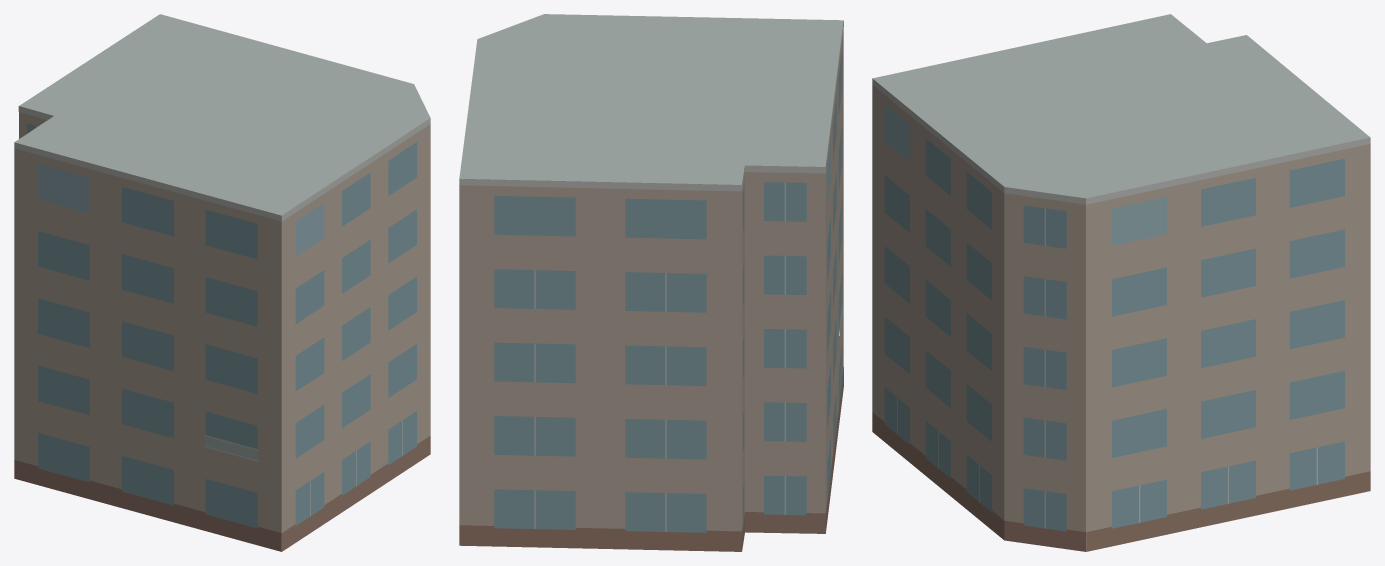
Rendered from survey-upis-32837187.glb.
3 views of the same model, side by side, from view 1: azimuth 30°, elevation 25°; view 2: azimuth 150°, elevation 25°; view 3: azimuth 270°, elevation 25° (orthographic). The views are drawn at different scales.
Visible parts, largest first — view 1: survey-upis-32837187.tmp; view 2: survey-upis-32837187.tmp; view 3: survey-upis-32837187.tmp.
Boxes of the visible parts, bbox=[...] form: survey-upis-32837187.tmp: bbox=[14, 14, 430, 551]; survey-upis-32837187.tmp: bbox=[459, 14, 843, 551]; survey-upis-32837187.tmp: bbox=[872, 14, 1370, 551].
Bounding box in the file's own units: 15.39 × 13.75 × 17.58.
